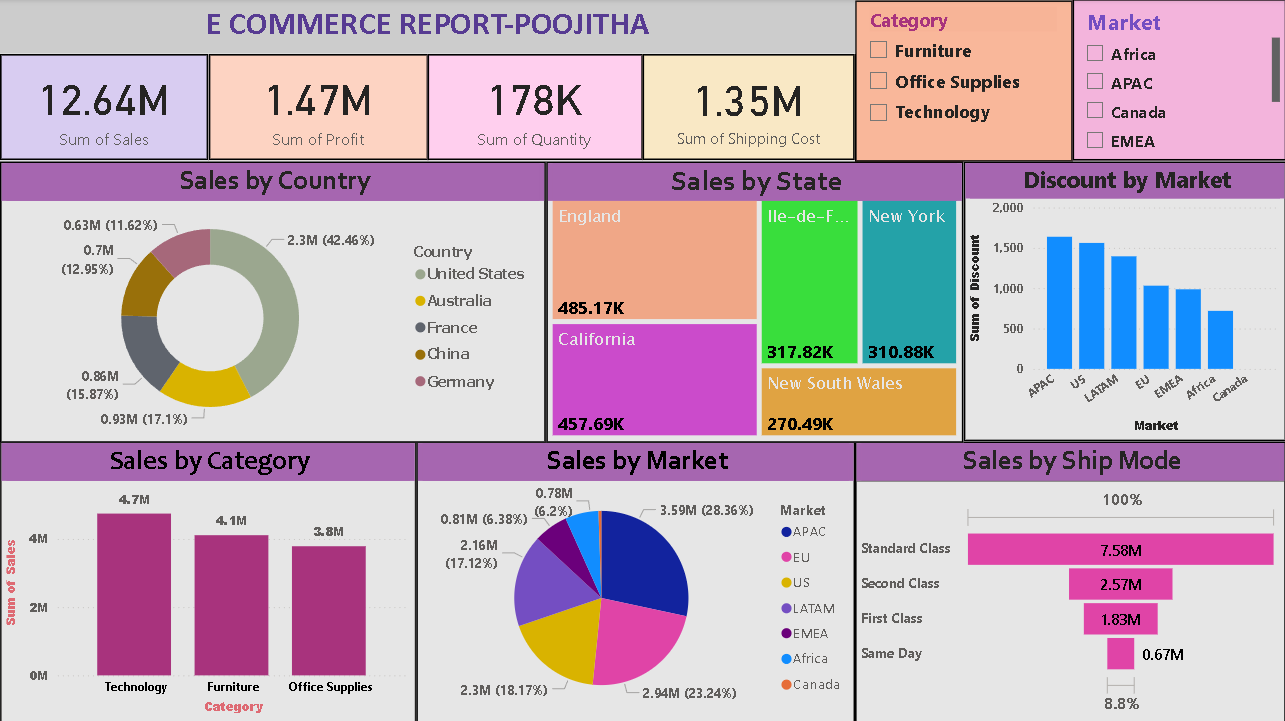

Layout of this report page (visuals, bound fields, positions):
{"tool":"powerbi","page":{"name":"Page 1","canvas":[1280,720],"ordinal":0},"visuals":[{"type":"clusteredColumnChart","title":"Sales by Category","fields":{"Category":["Orders.Category"],"Y":["Orders.Sales"]},"box":[0,440.5,414.4,279.9],"z":0},{"type":"pieChart","title":"Sales by Market","fields":{"Category":["Orders.Market"],"Y":["Orders.Sales"]},"box":[414.2,440.4,436.6,279.9],"z":1000},{"type":"funnel","title":"Sales by Ship Mode","fields":{"Y":["Orders.Sales"],"Category":["Orders.Ship Mode"]},"box":[850.9,440.4,429.2,279.9],"z":2000},{"type":"donutChart","title":"Sales by Country","fields":{"Category":["Orders.Country"],"Y":["Orders.Sales"]},"box":[0,160.5,850.9,279.9],"z":3000},{"type":"treemap","title":"Sales by State","fields":{"Values":["Orders.Sales"],"Group":["Orders.State"]},"box":[850.8,160.5,429.5,279.9],"z":4000},{"type":"card","fields":{"Values":["Orders.Sales"]},"box":[0,54.9,207.2,105.7],"z":5000},{"type":"card","fields":{"Values":["Orders.Profit"]},"box":[207.2,54.9,218.2,105.7],"z":6000},{"type":"card","fields":{"Values":["Orders.Quantity"]},"box":[425.4,54.9,214.1,105.7],"z":7000},{"type":"card","fields":{"Values":["Orders.Shipping Cost"]},"box":[639.5,54.9,211.3,105.7],"z":8000},{"type":"slicer","fields":{"Values":["Orders.Category"]},"box":[850.9,0,215.2,160.5],"z":8001},{"type":"slicer","fields":{"Values":["Orders.Market"]},"box":[1066.1,0,214,160.5],"z":8002},{"type":"textbox","box":[0,0,850.9,54.7],"z":8003}]}

Visuals, with their boxes in screenshot pixels (x1, y1, x2, y2), scaled from the page's 1280x720 canvas onto the 1285x721 screenshot:
"Sales by Category" clusteredColumnChart: <region>0, 441, 416, 720</region>
"Sales by Market" pieChart: <region>416, 441, 854, 720</region>
"Sales by Ship Mode" funnel: <region>854, 441, 1284, 720</region>
"Sales by Country" donutChart: <region>0, 161, 854, 441</region>
"Sales by State" treemap: <region>854, 161, 1284, 441</region>
card - Orders.Sales: <region>0, 55, 208, 161</region>
card - Orders.Profit: <region>208, 55, 427, 161</region>
card - Orders.Quantity: <region>427, 55, 642, 161</region>
card - Orders.Shipping Cost: <region>642, 55, 854, 161</region>
slicer - Orders.Category: <region>854, 0, 1070, 161</region>
slicer - Orders.Market: <region>1070, 0, 1284, 161</region>
textbox: <region>0, 0, 854, 55</region>
